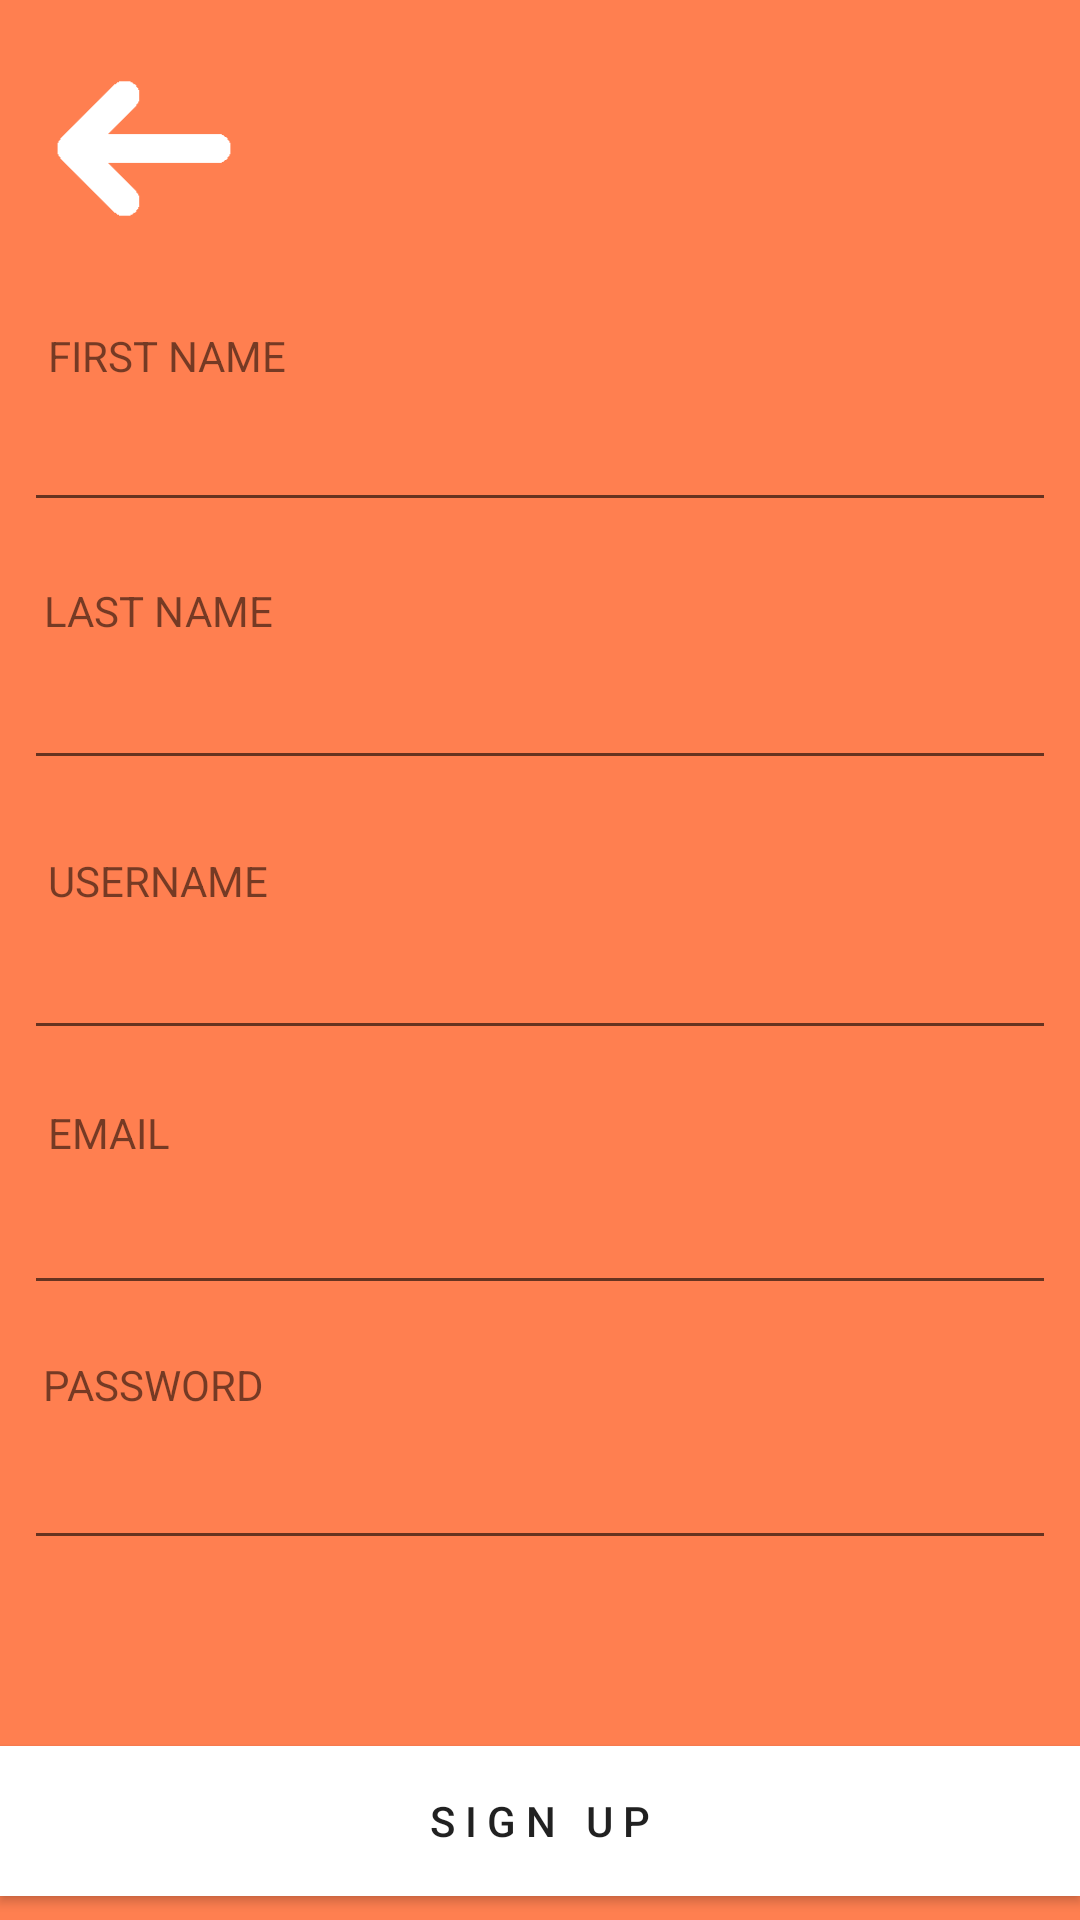

Icon bounding boxes for this 1080w x 1920h phone screenshot, format (x1, y1, x2, y2):
arrow: (57, 81, 231, 216)
